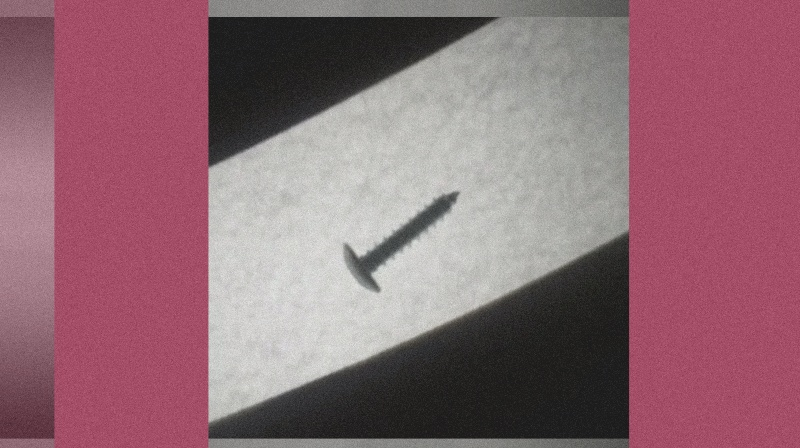S003: (339, 185, 465, 297)
